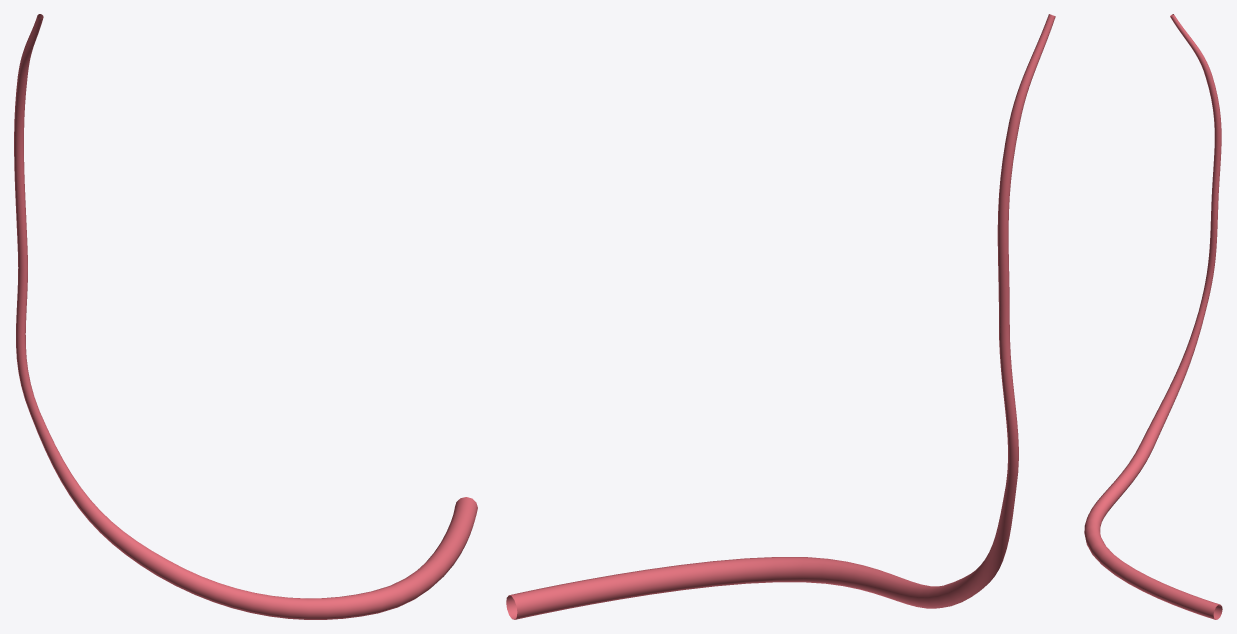
3 renders of one model, left to right at view 1: azimuth 30°, elevation 25°; view 2: azimuth 150°, elevation 25°; view 3: azimuth 270°, elevation 25°, orthographic. The views are drawn at different scales.
Parts seen in each view (by area): view 1: ZA_de4c103a7772c1e3; view 2: ZA_de4c103a7772c1e3; view 3: ZA_de4c103a7772c1e3.
Part boxes in pixels (left/top/right/bottom): ZA_de4c103a7772c1e3: left=14, top=14, right=477, bottom=619; ZA_de4c103a7772c1e3: left=506, top=14, right=1055, bottom=619; ZA_de4c103a7772c1e3: left=1084, top=14, right=1222, bottom=619.
Bounding box in the file's own units: 0.0329 × 0.0427 × 0.0119.
